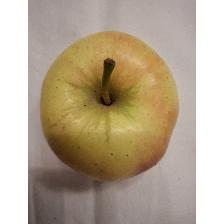Apfel: (38, 28, 180, 184)
